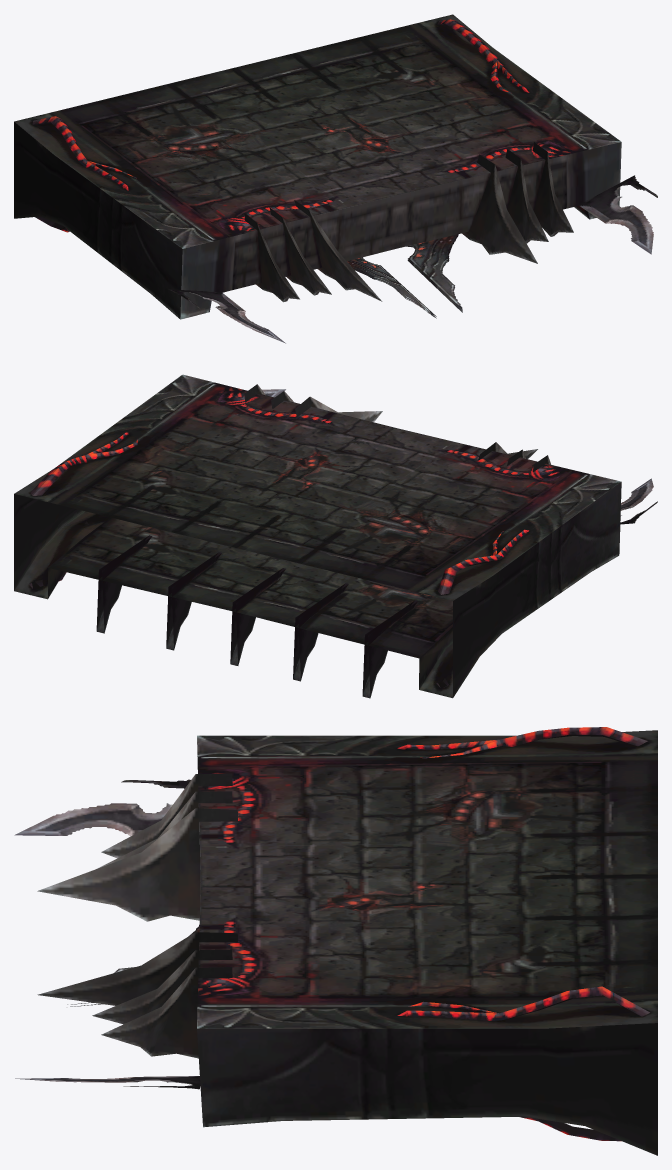
The model's file is huodong_fuben_248_qiangbi_01.obj.
3 views of the same model, one above another, from view 1: azimuth 30°, elevation 25°; view 2: azimuth 150°, elevation 25°; view 3: azimuth 270°, elevation 25° (orthographic). The views are drawn at different scales.
Parts seen in each view (by area): view 1: huodong_fuben_248_qiangbi_01; view 2: huodong_fuben_248_qiangbi_01; view 3: huodong_fuben_248_qiangbi_01.
Part boxes in pixels (x1=…): huodong_fuben_248_qiangbi_01: x1=14, y1=14, x2=657, y2=343; huodong_fuben_248_qiangbi_01: x1=14, y1=374, x2=657, y2=698; huodong_fuben_248_qiangbi_01: x1=14, y1=727, x2=657, y2=1155.
Bounding box in the file's own units: 267 × 72.59 × 233.
Materials: 2 (2 with a texture image).
